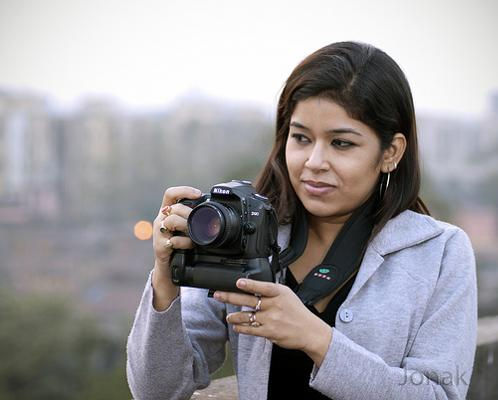person: (127, 42, 479, 400)
